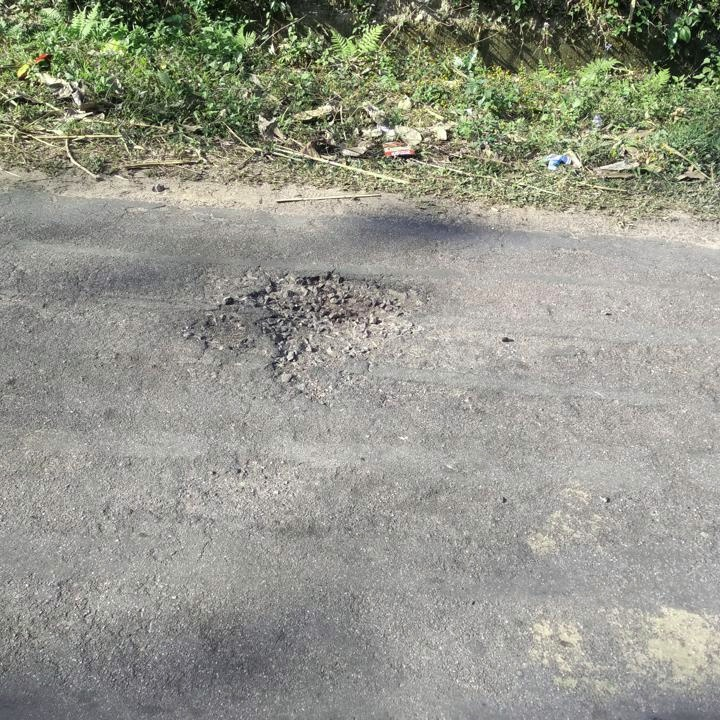pothole: (233, 271, 432, 387)
